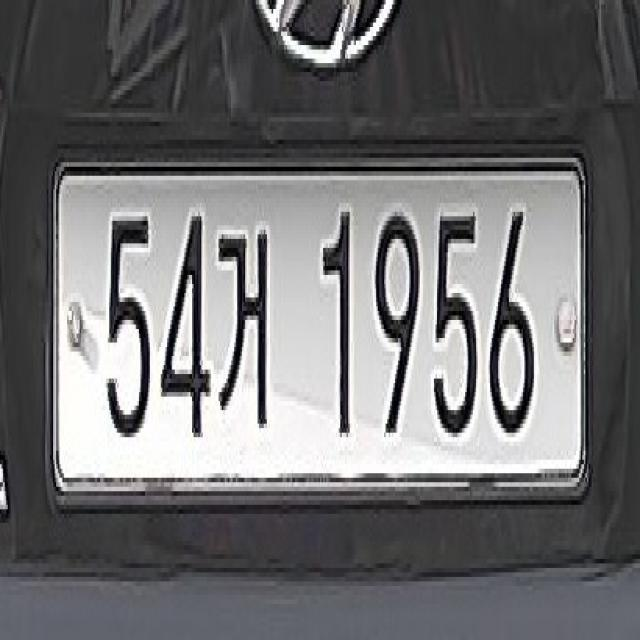1: (308, 195, 362, 465)
4: (158, 192, 214, 468)
5: (96, 194, 156, 471), (429, 198, 482, 458)
6: (487, 198, 543, 448)
9: (367, 196, 424, 466)
geo: (217, 191, 276, 464)
license_plate: (42, 126, 590, 520)
